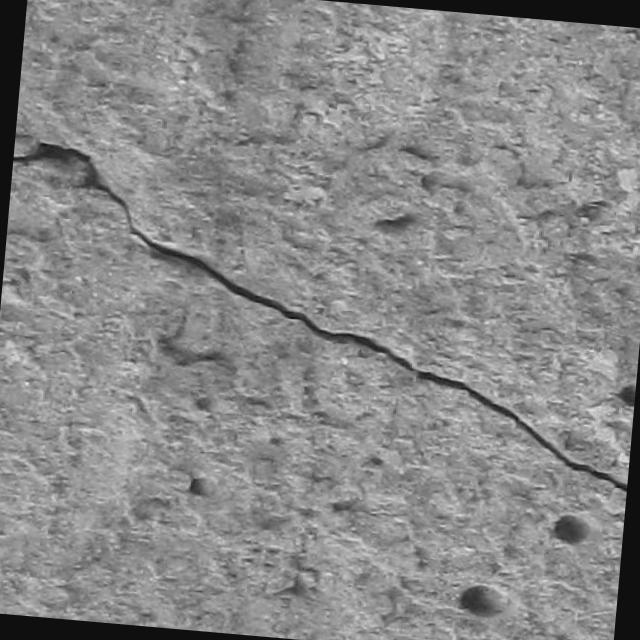crack: (0, 132, 411, 354), (386, 353, 630, 491)
